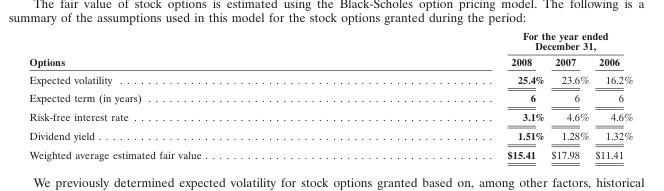table: (28, 29, 632, 160)
table column: (28, 29, 353, 160), (353, 29, 546, 160), (546, 29, 591, 160), (591, 29, 632, 160)
table column header: (28, 29, 632, 69)
table row: (28, 29, 632, 53), (28, 69, 632, 88), (28, 88, 632, 107), (28, 125, 632, 144), (28, 107, 632, 125), (28, 53, 632, 69), (28, 144, 632, 160)
table spanning cell: (28, 29, 353, 69), (353, 29, 632, 53)
